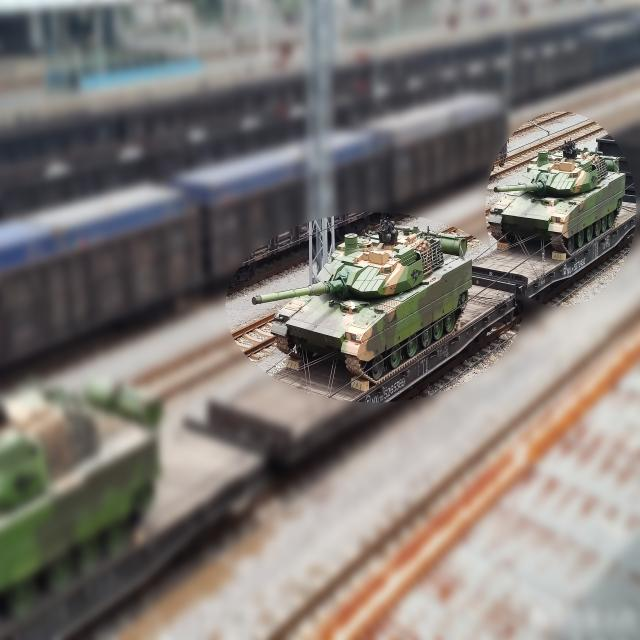tank: (246, 222, 473, 390), (486, 138, 631, 261)
